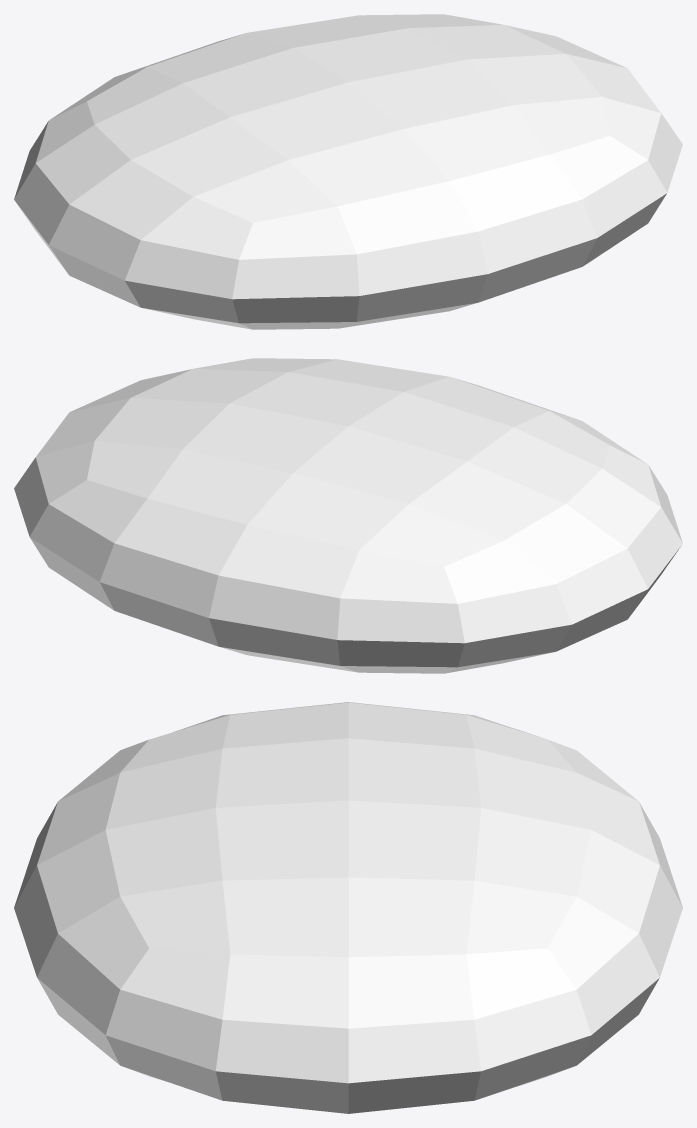
The model's file is Pillow_6.fbx.
3 renders of one model, top to bottom at view 1: azimuth 30°, elevation 25°; view 2: azimuth 150°, elevation 25°; view 3: azimuth 270°, elevation 25°, orthographic. The views are drawn at different scales.
Parts seen in each view (by area): view 1: Pillow_6; view 2: Pillow_6; view 3: Pillow_6.
Part boxes in pixels (<box>): Pillow_6: <box>14,14,682,329</box>; Pillow_6: <box>14,358,682,673</box>; Pillow_6: <box>14,702,682,1113</box>.
Size of the model in its own units: 0.4502 by 0.1287 by 0.3629.
